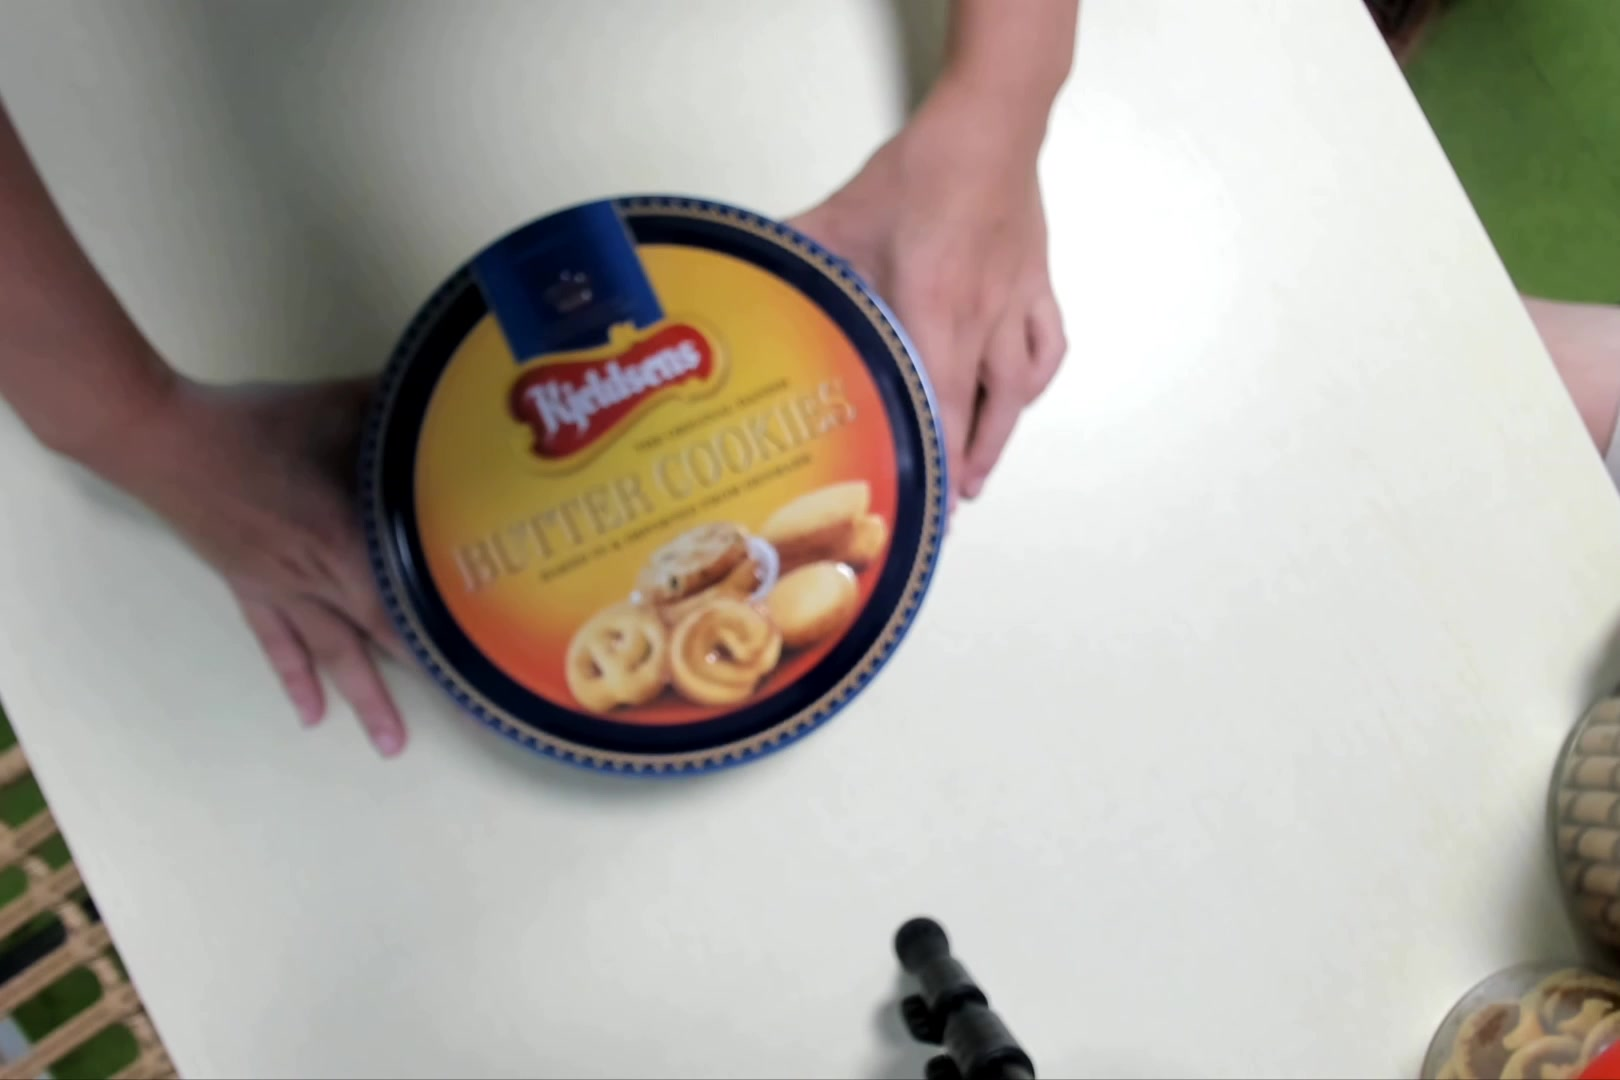BiscuitsCrackersCookies_400-499g_Halal_NonHealthy: (378, 196, 947, 794)
